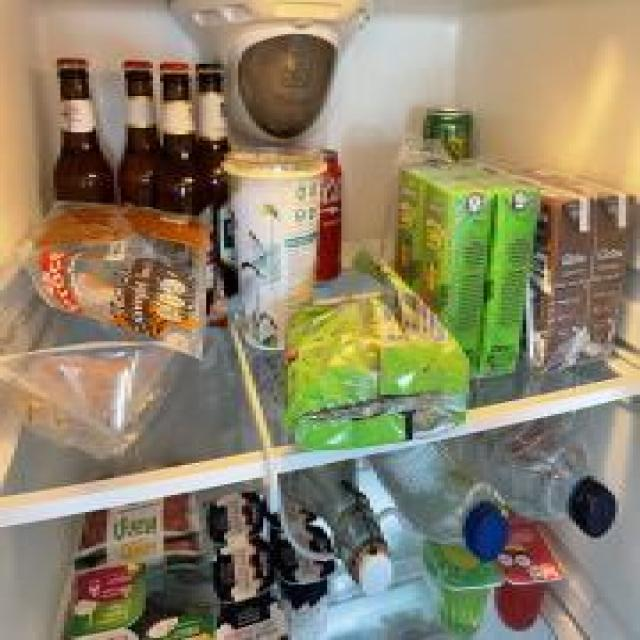sausage: (80, 488, 201, 572)
yogurt: (220, 148, 324, 351), (276, 525, 332, 640), (212, 546, 272, 600), (213, 501, 267, 542)
